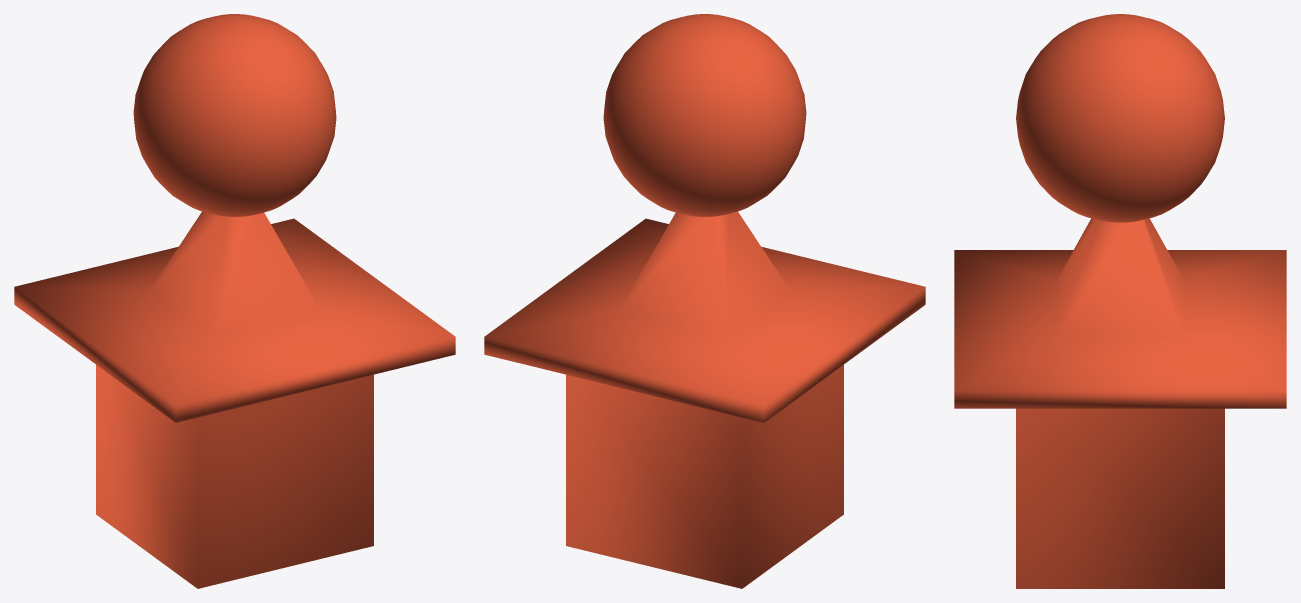
The picture shows the model from 3 angles, left to right: view 1: azimuth 30°, elevation 25°; view 2: azimuth 150°, elevation 25°; view 3: azimuth 270°, elevation 25°; orthographic projection. The views are drawn at different scales.
Visible parts, largest first — view 1: Cube; view 2: Cube; view 3: Cube.
Part boxes in pixels (x1,y1,x2,y2): Cube: [14, 14, 455, 588]; Cube: [484, 14, 925, 588]; Cube: [954, 14, 1286, 588].
Bounding box in the file's own units: 3.18 × 5.5 × 3.18.
